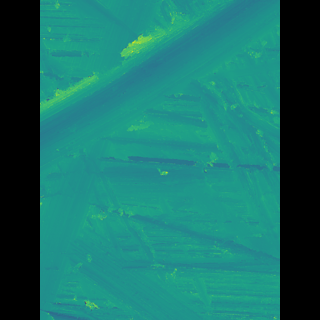Loch: (69, 0, 250, 175), (89, 221, 205, 319)
